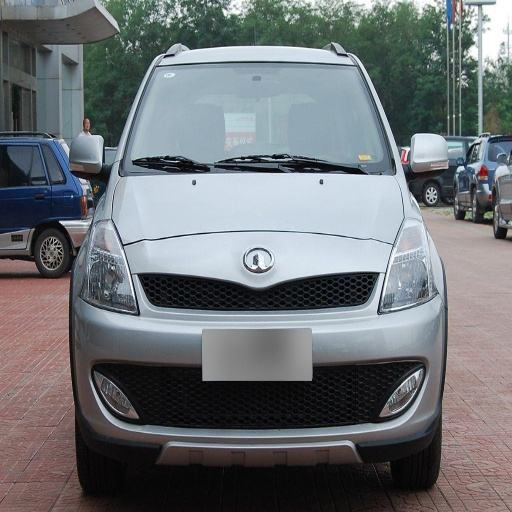front_bumper: (73, 245, 441, 463)
front_right_light: (78, 221, 138, 314)
hood: (112, 175, 405, 244)
left_mirror: (406, 133, 448, 177)
right_mirror: (69, 135, 109, 177)
